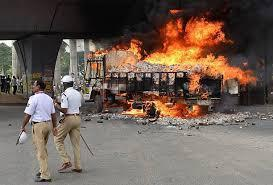fire: (142, 9, 255, 87), (105, 87, 221, 123), (83, 32, 141, 70)
